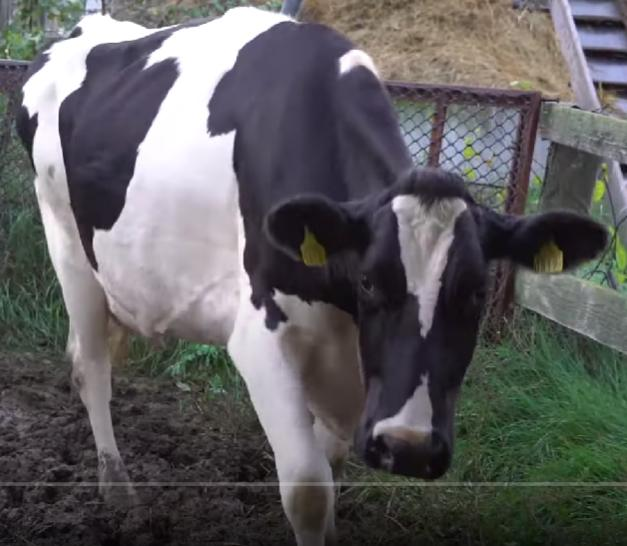cow: (21, 6, 606, 543)
